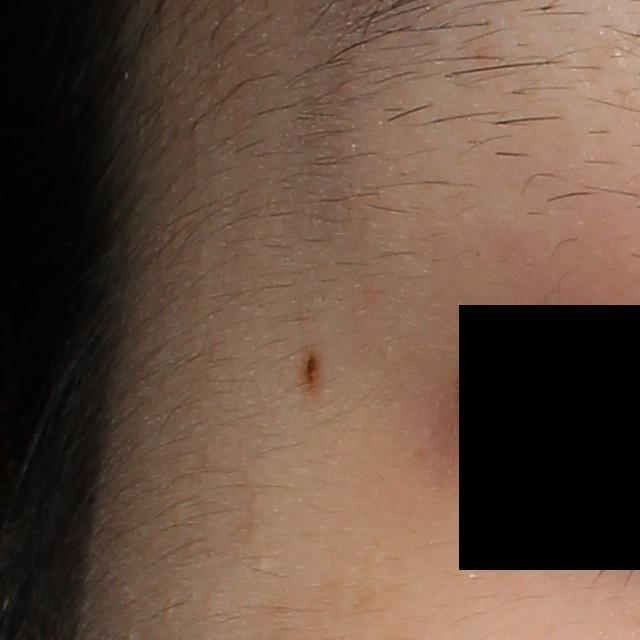nevus: (302, 349, 317, 387)
